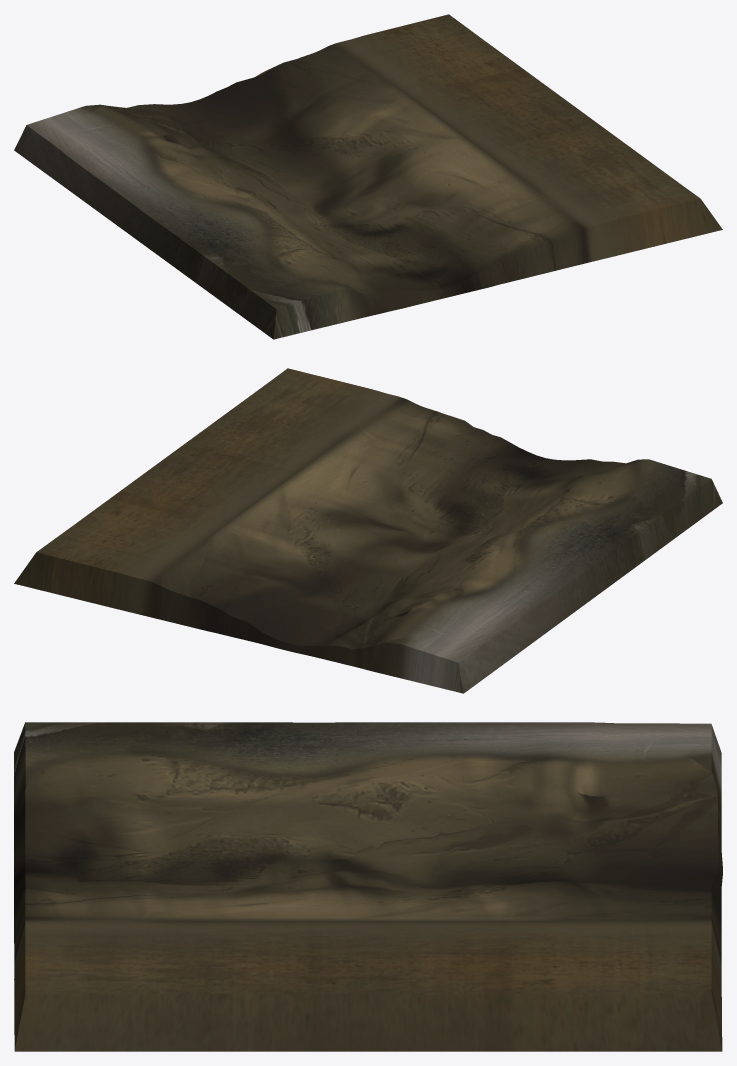
Rendered from busy-levee-ground-elevation.obj.
The picture shows the model from 3 angles, top to bottom: view 1: azimuth 30°, elevation 25°; view 2: azimuth 150°, elevation 25°; view 3: azimuth 270°, elevation 25°; orthographic projection. The views are drawn at different scales.
Parts seen in each view (by area): view 1: Ground; view 2: Ground; view 3: Ground.
Part boxes in pixels (left/top/right/bottom): Ground: left=14, top=14, right=722, bottom=339; Ground: left=14, top=368, right=722, bottom=693; Ground: left=14, top=722, right=722, bottom=1051.
Size of the model in its own units: 4993 by 355 by 5000.
